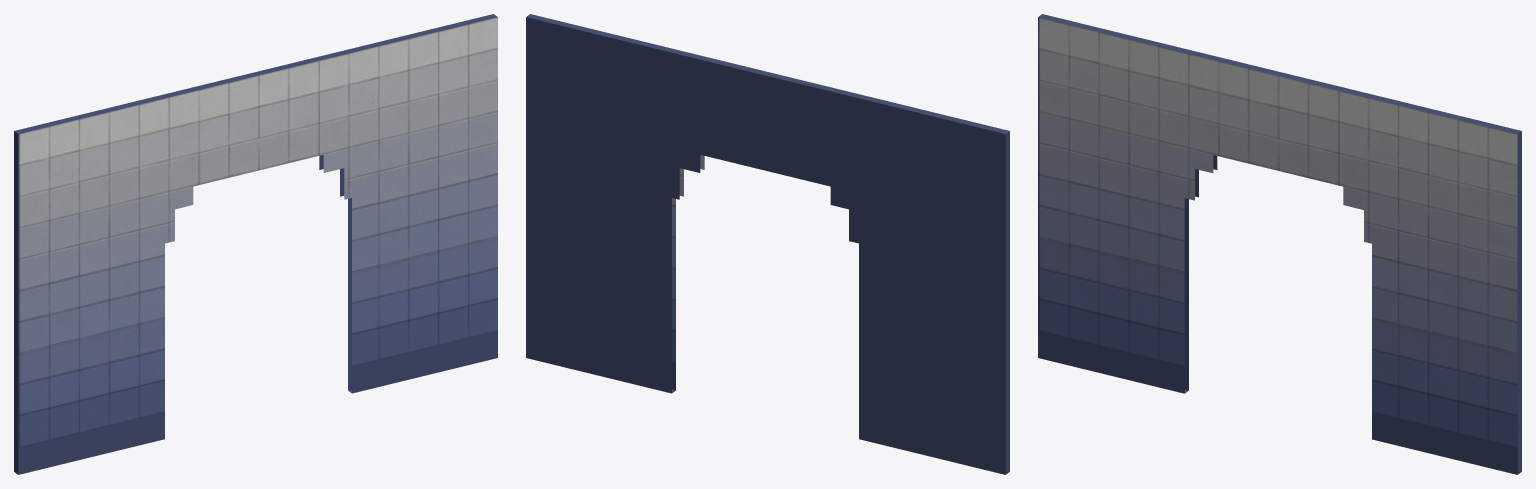
Rendered from centralRoomWall.fbx.
The picture shows the model from 3 angles, left to right: view 1: azimuth 30°, elevation 25°; view 2: azimuth 150°, elevation 25°; view 3: azimuth 330°, elevation 25°; orthographic projection.
Parts seen in each view (by area): view 1: centralRoomWall; view 2: centralRoomWall; view 3: centralRoomWall.
Boxes of the visible parts, left/top/right/bottom form: centralRoomWall: left=14, top=14, right=497, bottom=474; centralRoomWall: left=526, top=14, right=1009, bottom=474; centralRoomWall: left=1038, top=14, right=1521, bottom=474.
Size of the model in its own units: 91.51 by 62.17 by 1.41.
